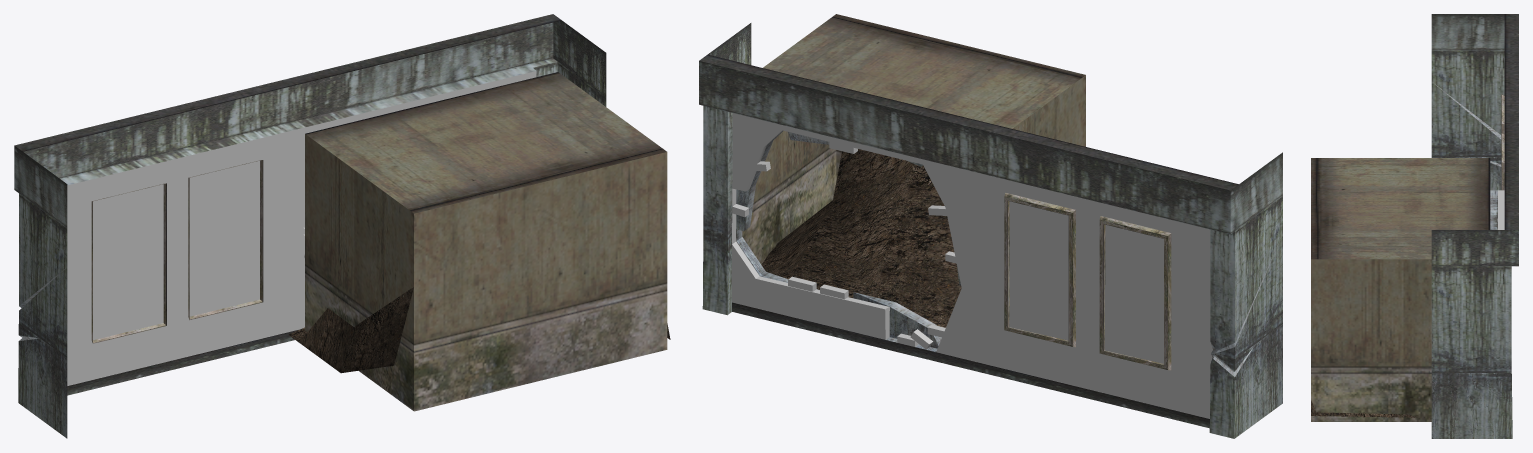
The model's file is Store_front_4_D.fbx.
3 views of the same model, side by side, from view 1: azimuth 30°, elevation 25°; view 2: azimuth 150°, elevation 25°; view 3: azimuth 270°, elevation 25° (orthographic). The views are drawn at different scales.
Parts seen in each view (by area): view 1: Store_front_4_D; view 2: Store_front_4_D; view 3: Store_front_4_D.
Part boxes in pixels (<box>): Store_front_4_D: <box>14,14,670,438</box>; Store_front_4_D: <box>699,14,1282,438</box>; Store_front_4_D: <box>1311,14,1518,438</box>.
Size of the model in its own units: 700 by 316 by 285.
